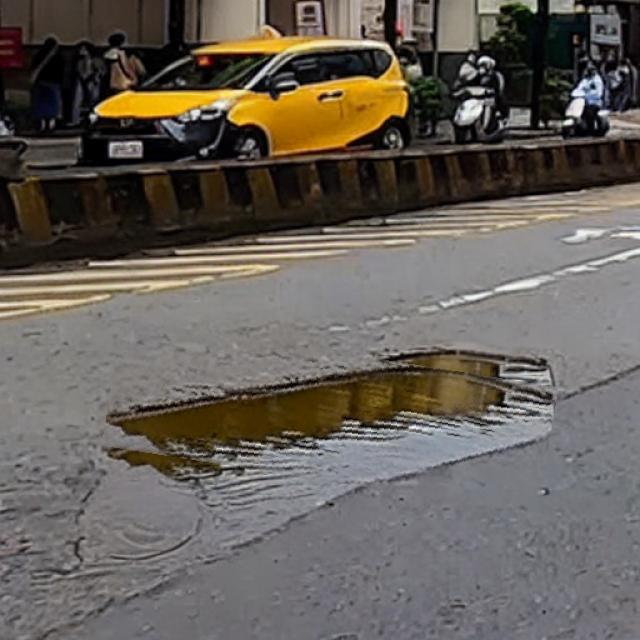puddle: (107, 336, 556, 499)
